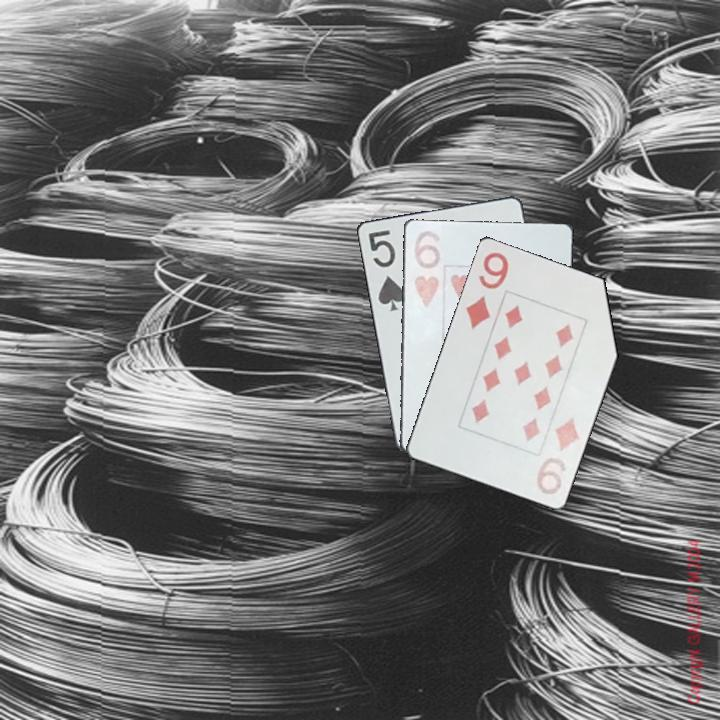5s: (364, 226, 408, 314)
6h: (408, 227, 444, 311)
9d: (461, 248, 513, 333), (533, 414, 584, 498)
